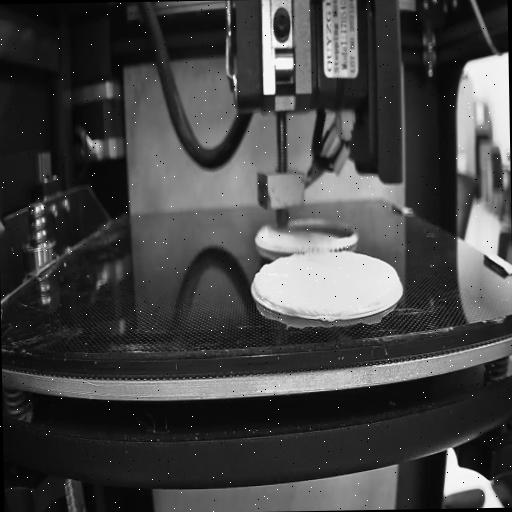over_extrusion: (252, 262, 273, 304)
